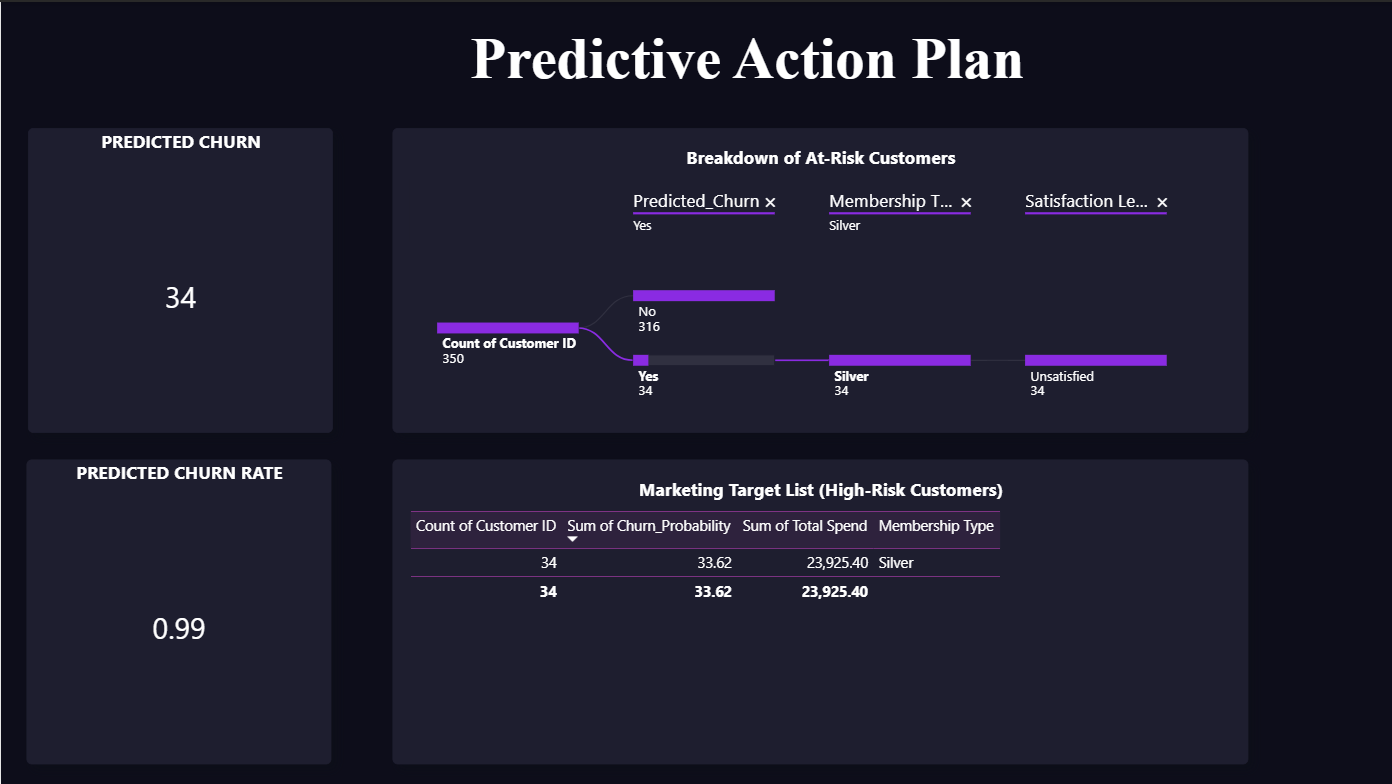

What the dashboard file says about the page in this screenshot:
{"tool":"powerbi","page":{"name":"Part 2","canvas":[1280,720],"ordinal":1},"visuals":[{"type":"card","title":"PREDICTED CHURN","fields":{"Values":["CountNonNull(customer_data_with_predictions.Customer ID)"]},"box":[24.2,115.1,280.1,280.1],"z":0},{"type":"card","title":"PREDICTED CHURN RATE","fields":{"Values":["Avg(customer_data_with_predictions.Churn_Probability)"]},"box":[24,420,280,280],"z":1000},{"type":"tableEx","title":" Marketing Target List (High-Risk Customers)","fields":{"Values":["CountNonNull(customer_data_with_predictions.Customer ID)","Sum(customer_data_with_predictions.Churn_Probability)","Sum(customer_data_with_predictions.Total Spend)","customer_data_with_predictions.Membership Type"]},"box":[360.1,419.9,785.8,279.9],"z":2000},{"type":"decompositionTreeVisual","title":"Breakdown of At-Risk Customers","fields":{"Analyze":["CountNonNull(customer_data_with_predictions.Customer ID)"],"ExplainBy":["customer_data_with_predictions.Predicted_Churn","customer_data_with_predictions.Membership Type","customer_data_with_predictions.Satisfaction Level"]},"box":[360.1,115.2,785.8,279.9],"z":3000},{"type":"textbox","box":[388,22,594,92],"z":4000}]}

Visuals, with their boxes in screenshot pixels (x1, y1, x2, y2), scaled from the page's 1280x720 canvas onto the 1392x784 screenshot:
"PREDICTED CHURN" card: crop(26, 125, 331, 430)
"PREDICTED CHURN RATE" card: crop(26, 457, 331, 762)
" Marketing Target List (High-Risk Customers)" tableEx: crop(392, 457, 1246, 762)
"Breakdown of At-Risk Customers" decompositionTreeVisual: crop(392, 125, 1246, 430)
textbox: crop(422, 24, 1068, 124)
